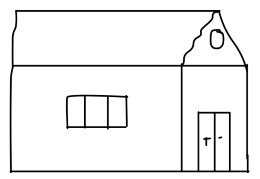big_house: (0, 0, 260, 179)
closed_window: (60, 88, 132, 134)
door: (192, 108, 235, 177)
roof: (5, 5, 253, 73)
wall: (175, 57, 254, 176)
